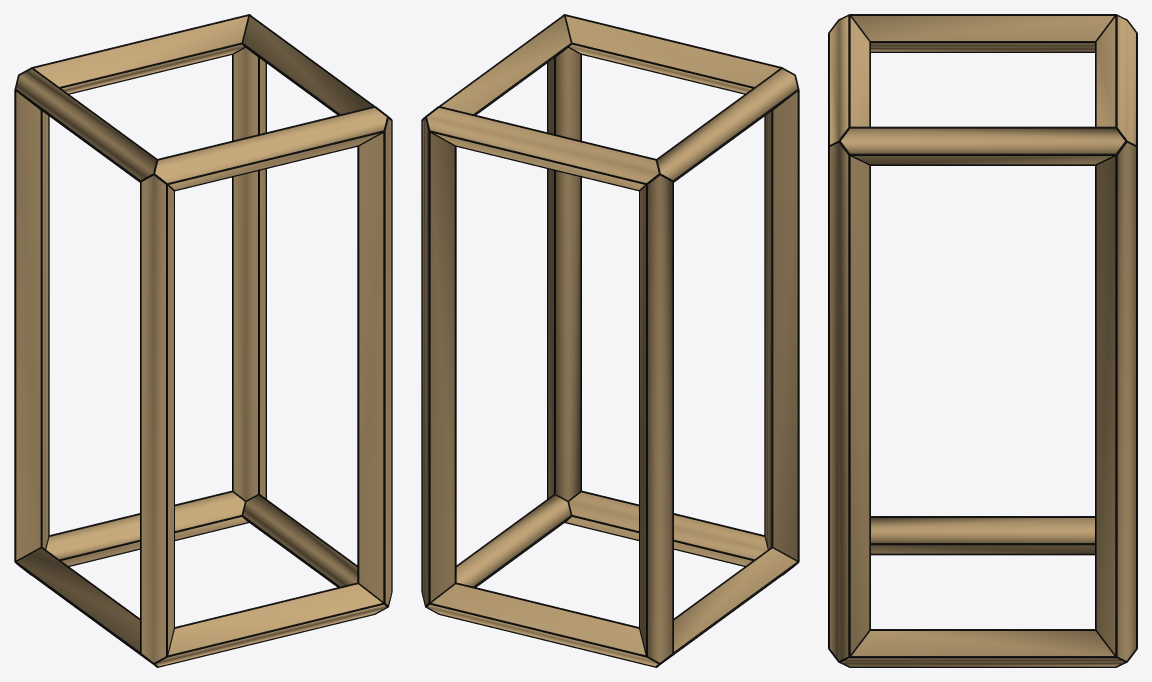
Rendered from servante-moyenne.glb.
3 views of the same model, side by side, from view 1: azimuth 30°, elevation 25°; view 2: azimuth 150°, elevation 25°; view 3: azimuth 270°, elevation 25° (orthographic). The views are drawn at different scales.
Visible parts, largest first — view 1: arete-Z0, arete-Z1, arete-Z2, arete-Z3, arete-X2, arete-X0, arete-X3, arete-X1, arete-Y2, arete-wire-Z1, arete-wire-Z2, arete-Y0 (+12 smaller); view 2: arete-Z2, arete-Z3, arete-Z0, arete-Z1, arete-X3, arete-X1, arete-X2, arete-X0, arete-Y2, arete-wire-Z3, arete-wire-Z0, arete-Y0 (+12 smaller); view 3: arete-Z1, arete-Z3, arete-Y3, arete-Y1, arete-Y2, arete-Y0, arete-X2, arete-X3, arete-wire-Z1, arete-wire-Z3, arete-wire-Y3, arete-wire-Y1 (+4 smaller).
Part boxes in pixels (x1,y1,x2,y2): arete-Z0: [141, 175, 173, 662]; arete-Z1: [359, 119, 391, 604]; arete-Z2: [16, 92, 48, 559]; arete-Z3: [233, 48, 265, 500]; arete-X2: [155, 108, 386, 189]; arete-X0: [156, 584, 386, 666]; arete-X3: [34, 16, 247, 93]; arete-X1: [46, 492, 247, 565]; arete-Y2: [16, 69, 156, 179]; arete-wire-Z1: [357, 116, 392, 603]; arete-wire-Z2: [14, 90, 49, 561]; arete-Y0: [17, 548, 139, 651]; arete-Z2: [640, 175, 672, 662]; arete-Z3: [422, 119, 454, 604]; arete-Z0: [765, 92, 797, 559]; arete-Z1: [548, 48, 580, 500]; arete-X3: [427, 108, 658, 189]; arete-X1: [427, 584, 657, 666]; arete-X2: [566, 16, 779, 93]; arete-X0: [566, 492, 767, 565]; arete-Y2: [657, 69, 797, 179]; arete-wire-Z3: [421, 120, 456, 603]; arete-wire-Z0: [764, 74, 799, 561]; arete-Y0: [674, 548, 796, 651]; arete-Z1: [830, 142, 869, 660]; arete-Z3: [1096, 142, 1135, 660]; arete-Y3: [841, 128, 1124, 164]; arete-Y1: [841, 631, 1124, 666]; arete-Y2: [852, 16, 1113, 51]; arete-Y0: [871, 518, 1094, 553]; arete-X2: [830, 16, 869, 144]; arete-X3: [1096, 16, 1135, 144]; arete-wire-Z1: [828, 141, 870, 657]; arete-wire-Z3: [1095, 146, 1137, 657]; arete-wire-Y3: [849, 126, 1127, 165]; arete-wire-Y1: [839, 629, 1127, 667].
Size of the model in its own units: 0.3238 by 0.6238 by 0.3238.
